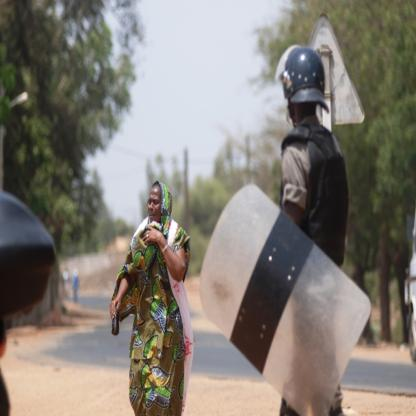Helmet: (283, 42, 334, 129)
